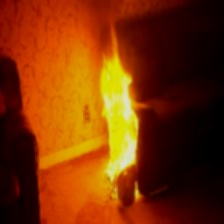fire: (95, 53, 151, 183)
